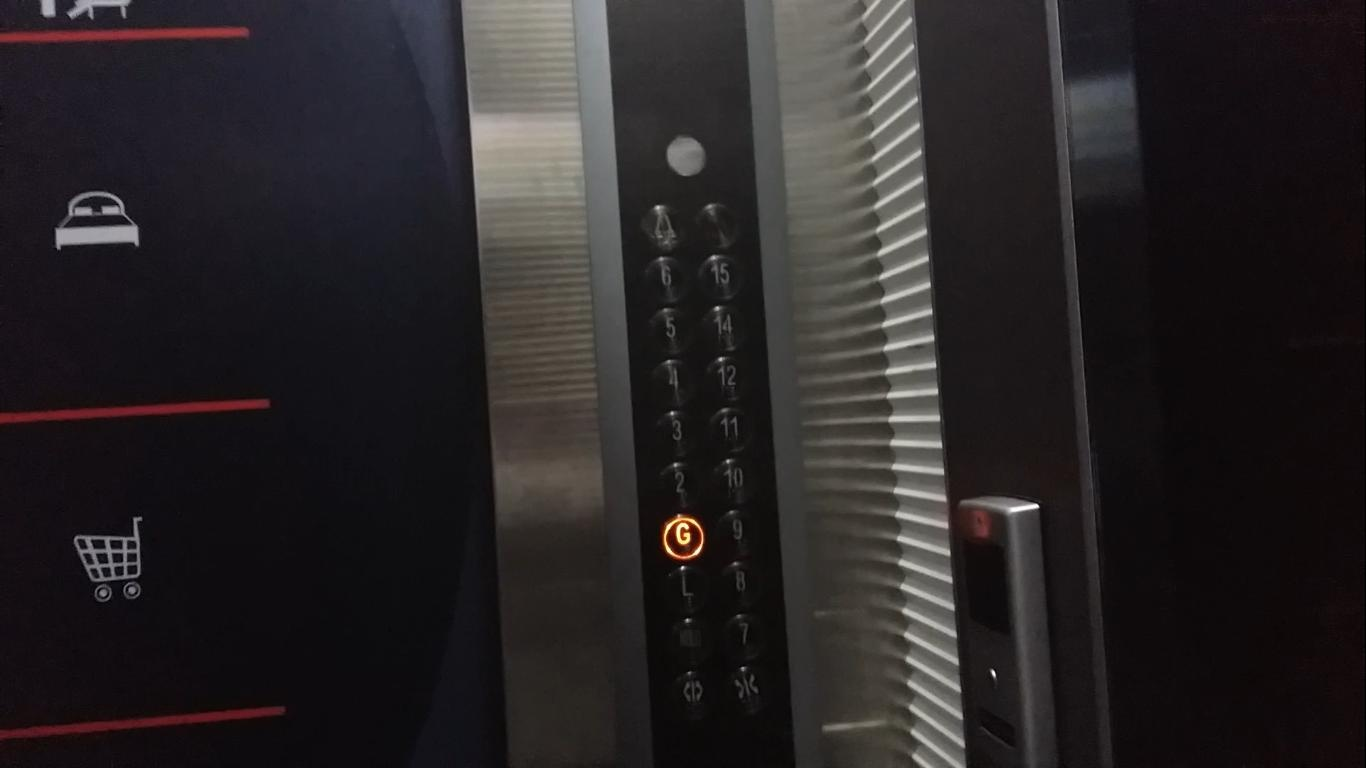10: (711, 458, 759, 506)
11: (708, 407, 754, 454)
12: (704, 356, 749, 403)
14: (700, 306, 746, 353)
15: (698, 254, 744, 303)
2: (656, 462, 702, 512)
3: (652, 409, 701, 459)
4: (647, 360, 695, 405)
5: (646, 308, 695, 355)
6: (640, 256, 687, 303)
7: (717, 612, 769, 660)
8: (717, 561, 760, 609)
9: (711, 510, 762, 558)
G: (656, 512, 705, 562)
L: (662, 564, 712, 615)
alarm: (642, 203, 688, 248)
blur: (667, 617, 712, 663)
close: (726, 666, 771, 715)
empty: (695, 203, 741, 250), (666, 136, 709, 177)
open: (668, 670, 715, 719)
